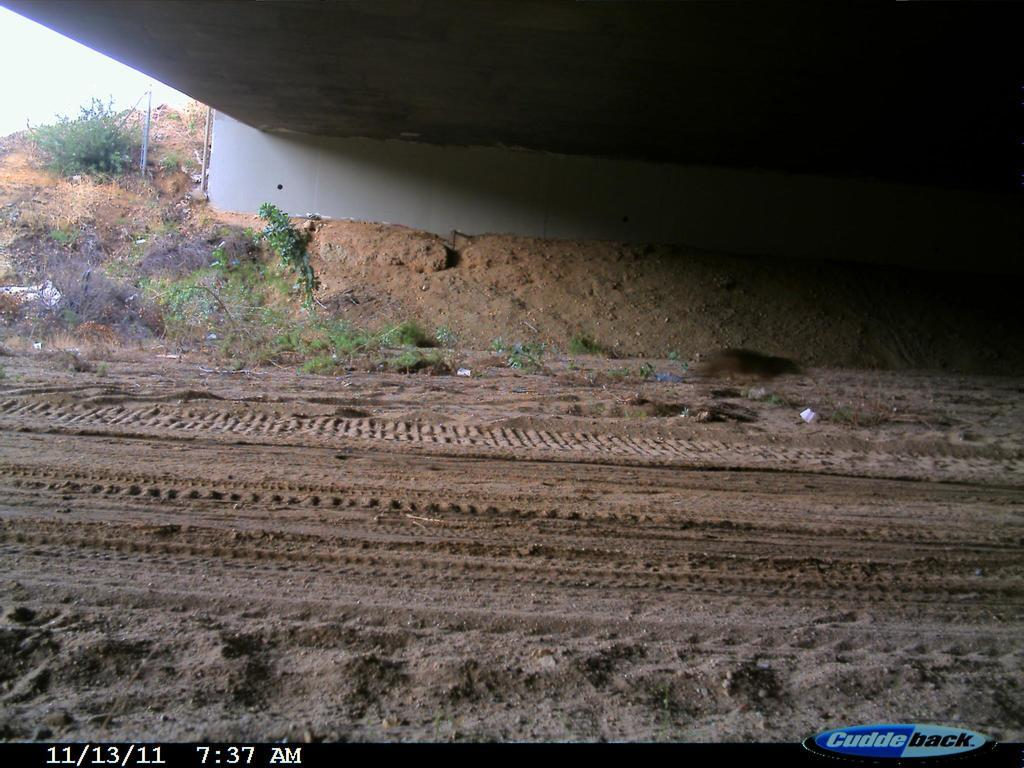coyote: (683, 345, 821, 397)
